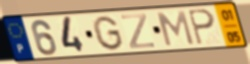4: (60, 15, 89, 56)
6: (30, 18, 58, 57)
G: (91, 15, 126, 52)
M: (155, 10, 196, 48)
P: (186, 8, 217, 47)
Z: (120, 12, 157, 51)
